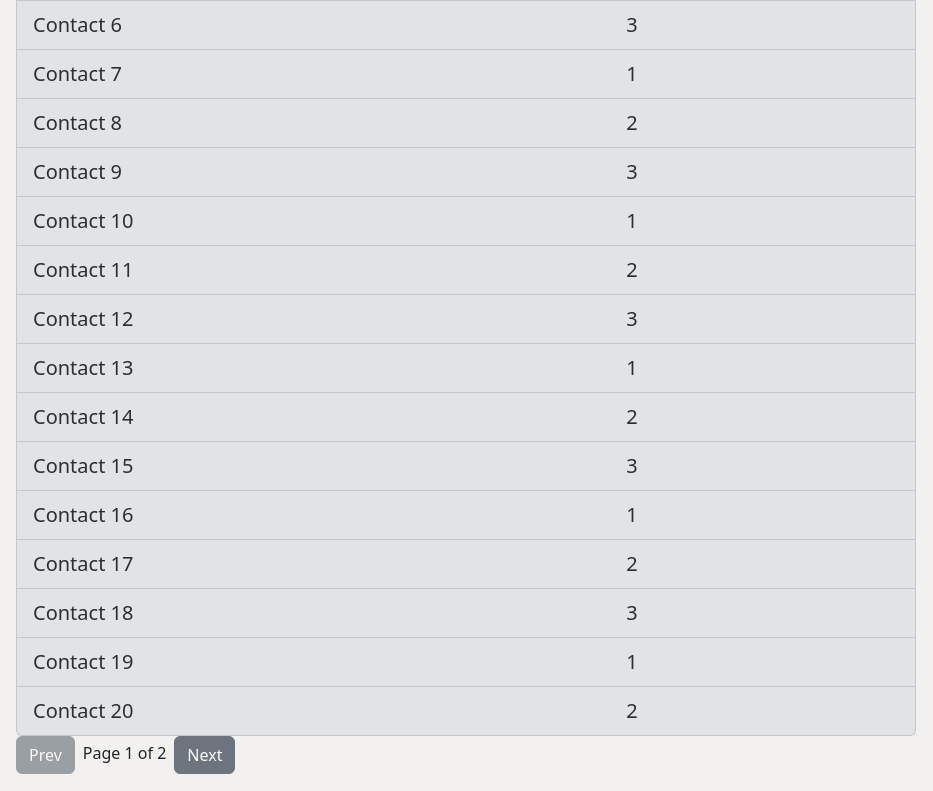
Test: ContactsDisplay › handles pagination button clicks
(page scrolled)
Step 1. Click the button "Next" → [205, 755], box [174,736,235,774]
(page scrolled)
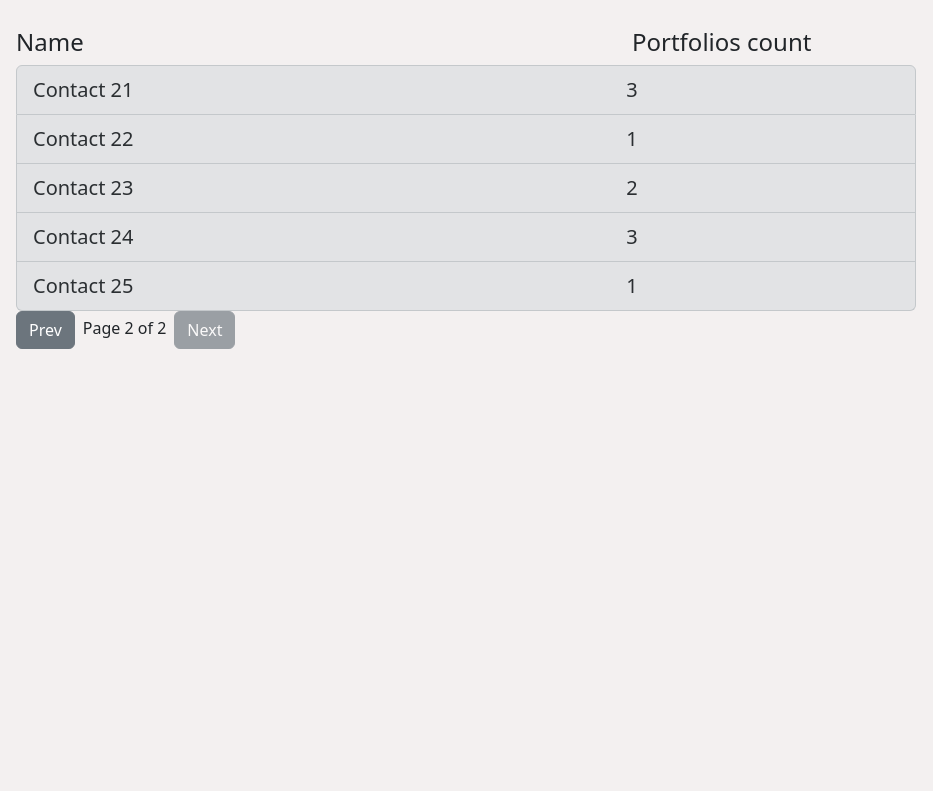
Expected: the heading "Contact 21" is shown, [33,76,134,103]
Expected: the button "Contact 1" is gone
